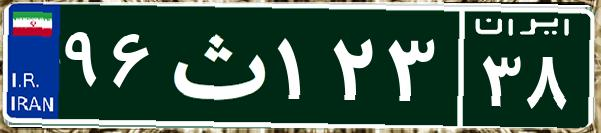1: (273, 28, 330, 110)
2: (330, 28, 385, 110)
3: (385, 28, 445, 110), (475, 38, 525, 113)
6: (110, 28, 158, 105)
8: (525, 38, 570, 115)
9: (57, 26, 110, 107)
ث: (158, 15, 273, 115)
